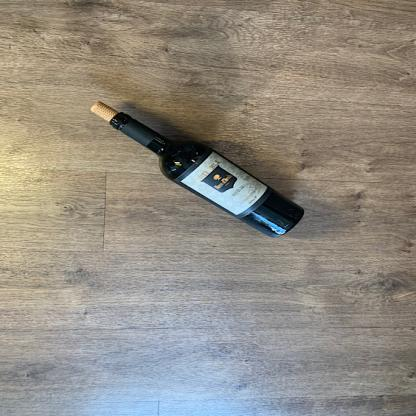trash: (112, 113, 310, 239)
